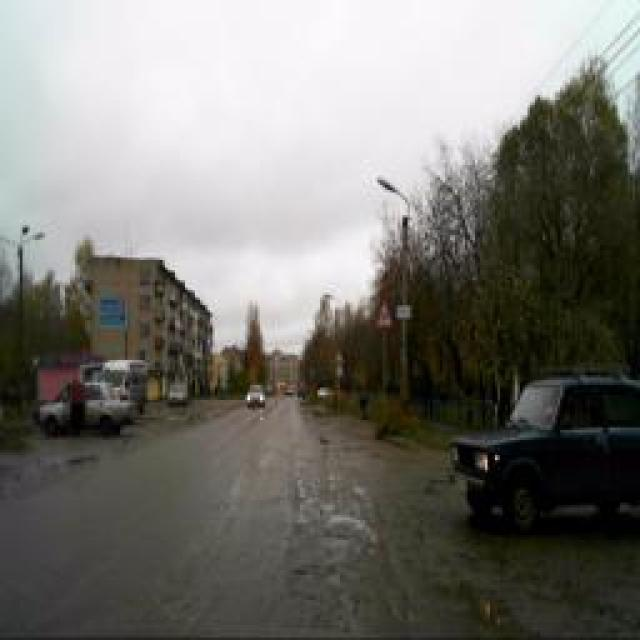sign: (375, 298, 393, 328), (334, 349, 344, 366)
